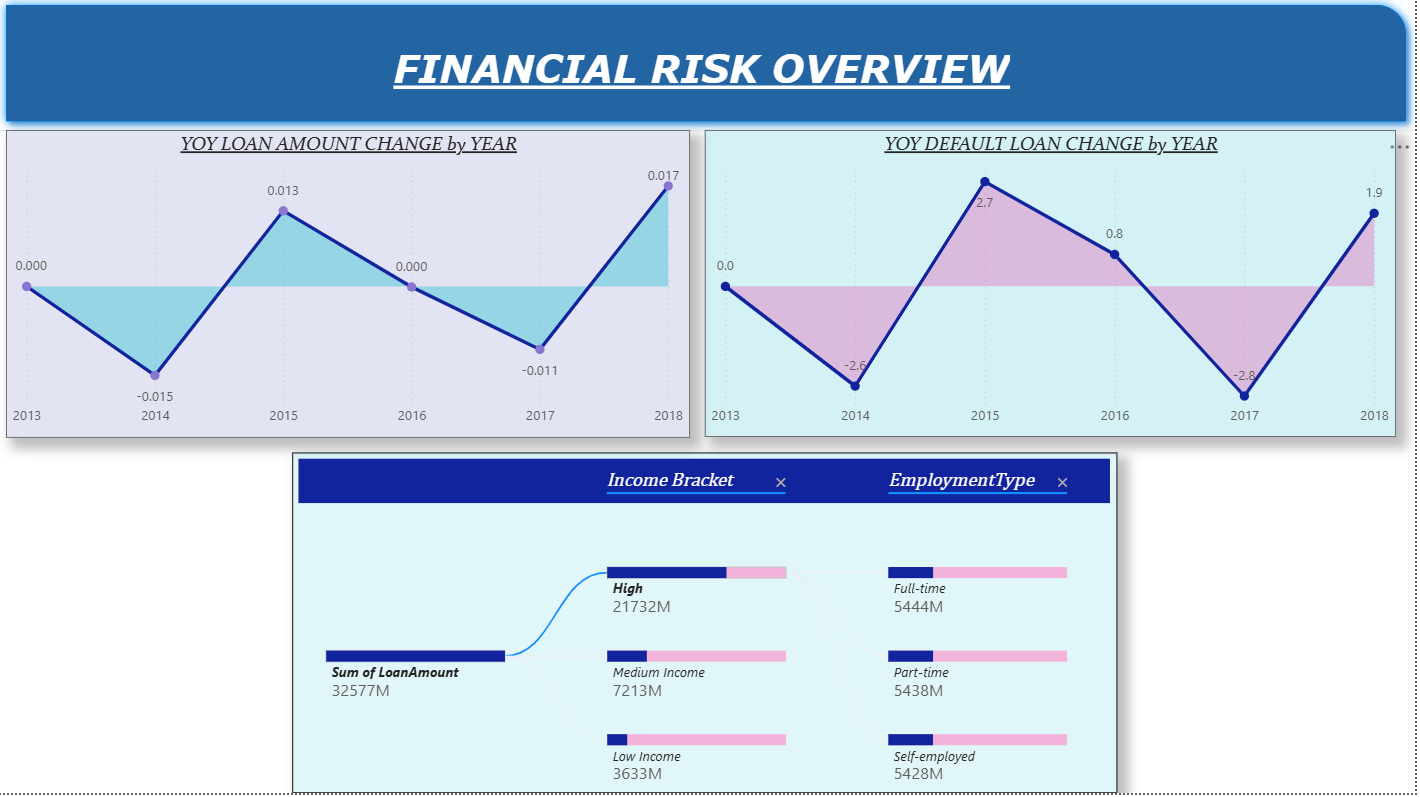

Layout of this report page (visuals, bound fields, positions):
{"tool":"powerbi","page":{"name":"FINANCIAL RISK OVERVIEW","canvas":[1280,720],"ordinal":2},"visuals":[{"type":"shape","box":[0,0,1280.4,122.9],"z":0},{"type":"lineChart","fields":{"Y":["MEASURE.YOY LOAN AMOUNT CHANGE"],"Category":["Loan_default.YEAR"]},"box":[9,121.7,616.5,277.3],"z":1000},{"type":"lineChart","title":"YOY DEFAULT LOAN CHANGE by YEAR","fields":{"Y":["MEASURE.yoy defaulters"],"Category":["Loan_default.YEAR"]},"box":[639.5,122.1,623,277.2],"z":2000},{"type":"decompositionTreeVisual","fields":{"Analyze":["Sum(Loan_default.LoanAmount)"],"ExplainBy":["Loan_default.Income Bracket","Loan_default.EmploymentType"]},"box":[267.6,413,743.7,307.4],"z":3000}]}

Visuals, with their boxes in screenshot pixels (x1, y1, x2, y2), scaled from the page's 1280x720 canvas onto the 1420x797 screenshot:
shape: bbox=(0, 0, 1419, 136)
lineChart - MEASURE.YOY LOAN AMOUNT CHANGE x Loan_default.YEAR: bbox=(10, 135, 694, 442)
"YOY DEFAULT LOAN CHANGE by YEAR" lineChart: bbox=(709, 135, 1401, 442)
decompositionTreeVisual - Sum(Loan_default.LoanAmount) x Loan_default.Income Bracket: bbox=(297, 457, 1122, 796)
